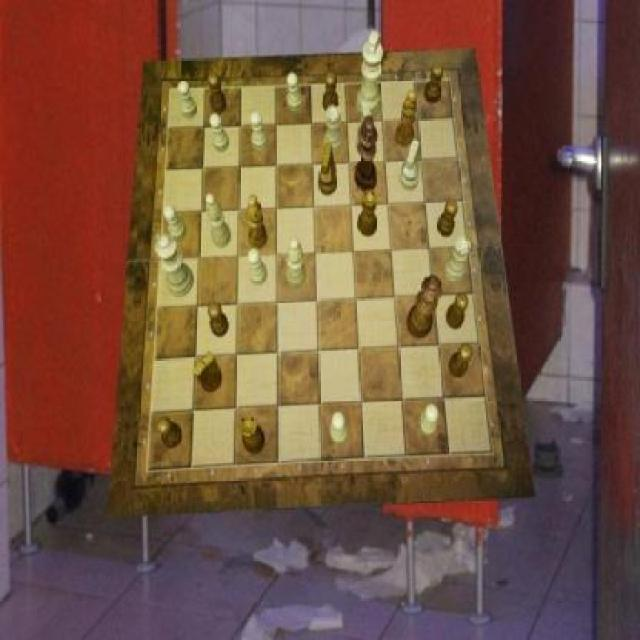bishop: (395, 89, 418, 148), (248, 195, 268, 250)
black-bishop: (356, 115, 378, 193)
black-king: (194, 352, 223, 392), (318, 143, 338, 197)
black-knight: (446, 292, 469, 330), (449, 343, 473, 378), (424, 64, 444, 104), (437, 199, 458, 236), (157, 417, 181, 449), (208, 74, 227, 114), (208, 302, 228, 336), (323, 71, 339, 112)
black-pawn: (406, 276, 442, 340)
black-queen: (240, 415, 266, 454), (357, 191, 377, 237)
black-rook: (206, 192, 231, 247), (286, 237, 306, 288)
white-bishop: (356, 32, 382, 118)
white-king: (400, 138, 420, 191), (357, 104, 377, 156)
white-knight: (165, 204, 188, 240), (209, 114, 229, 152), (177, 80, 197, 118), (248, 248, 268, 285), (251, 112, 268, 152), (420, 405, 440, 437), (288, 72, 304, 112), (331, 412, 348, 445)
white-pawn: (156, 234, 194, 298)
white-queen: (444, 237, 472, 282), (324, 106, 344, 156)
